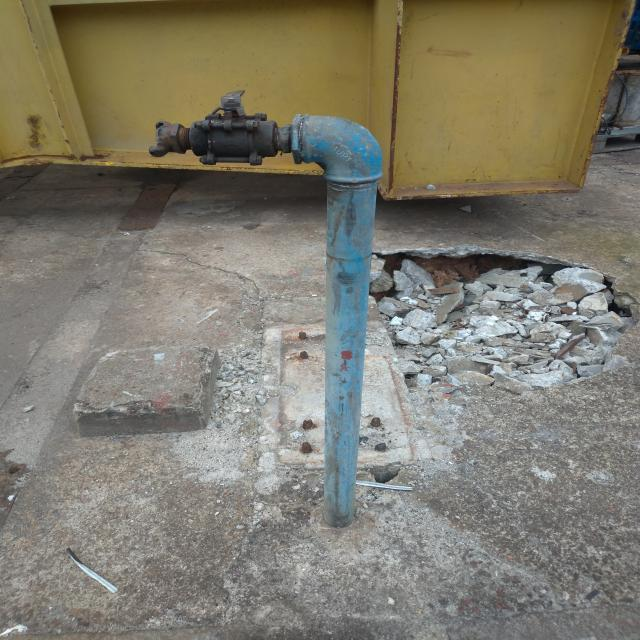gas: (295, 116, 377, 523)
